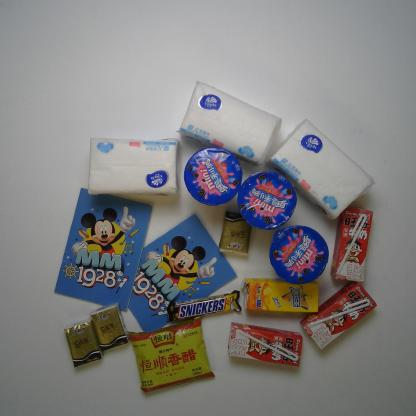Chocolate: (164, 290, 242, 322)
Dessert: (268, 224, 330, 285), (235, 171, 298, 229), (183, 146, 243, 206)
Drink: (242, 274, 323, 314)
Milk: (300, 282, 378, 352), (225, 319, 304, 370), (329, 207, 372, 283)
Seasoner: (124, 318, 216, 394)
Stationery: (128, 213, 237, 336), (54, 186, 153, 311)
Tissue: (269, 118, 376, 222), (178, 81, 280, 167), (85, 134, 183, 198), (89, 304, 131, 351), (64, 321, 102, 369), (218, 211, 253, 257)
